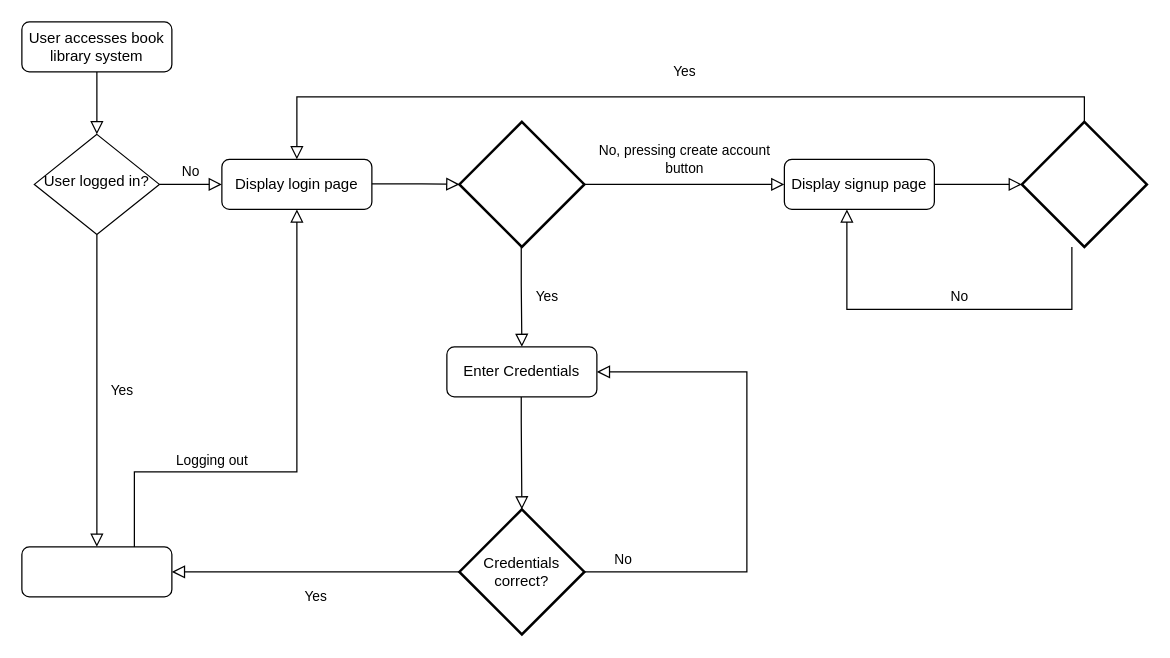
Image size: 1170x658. Some labels were removed from this diagram. The centre of each missing label's shape, as x and y in pixels:
Account valid?: pixel 1084 184
Display homepage: pixel 96 571
User has account?: pixel 521 184
